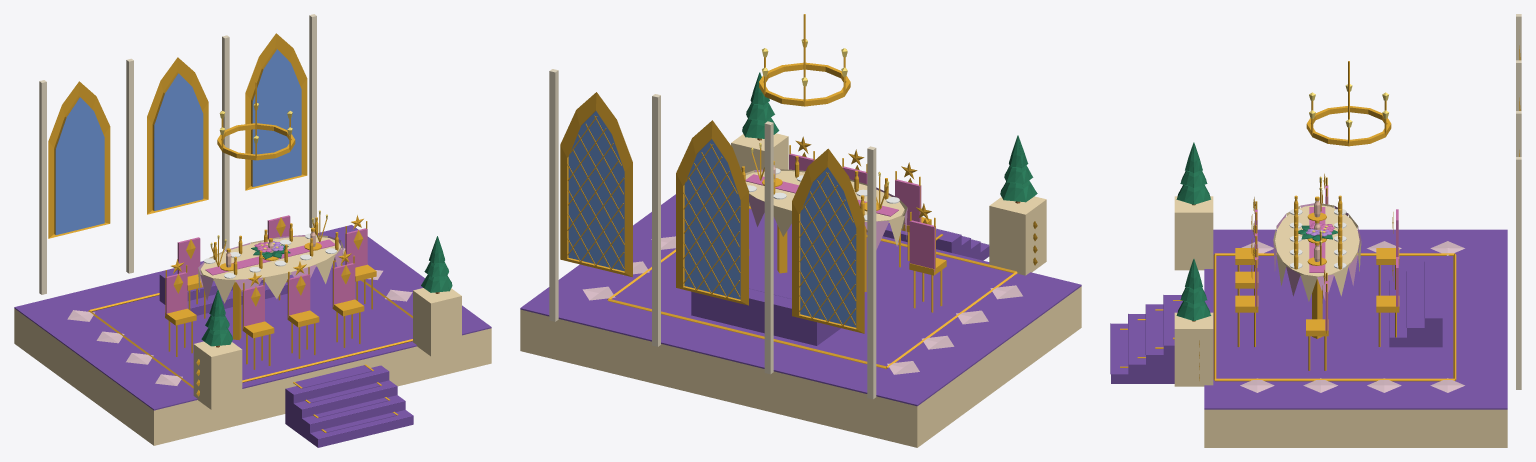
Rendered from decoration.glb.
The picture shows the model from 3 angles, left to right: view 1: azimuth 30°, elevation 25°; view 2: azimuth 150°, elevation 25°; view 3: azimuth 270°, elevation 25°; orthographic projection. The views are drawn at different scales.
Visible parts, largest first — view 1: 19_Gala_FloorStairsAndPlanters, 19_ComparisonReview_DetailCorrections, 19_Gala_TableChairsAndChandelier, 19_Gala_ClothCandlesFlowersAndGoldCarpet, 19_R2C_Gala_DaisCarpetChairCrownsAndFloor; view 2: 19_Gala_FloorStairsAndPlanters, 19_ComparisonReview_DetailCorrections, 19_Gala_TableChairsAndChandelier, 19_R2C_Gala_DaisCarpetChairCrownsAndFloor, 19_Gala_ClothCandlesFlowersAndGoldCarpet; view 3: 19_Gala_FloorStairsAndPlanters, 19_Gala_TableChairsAndChandelier, 19_R2C_Gala_DaisCarpetChairCrownsAndFloor, 19_Gala_ClothCandlesFlowersAndGoldCarpet, 19_ComparisonReview_DetailCorrections.
Boxes of the visible parts, bbox=[...] form: 19_Gala_FloorStairsAndPlanters: bbox=[14, 225, 491, 447]; 19_ComparisonReview_DetailCorrections: bbox=[39, 14, 316, 294]; 19_Gala_TableChairsAndChandelier: bbox=[165, 82, 376, 369]; 19_Gala_ClothCandlesFlowersAndGoldCarpet: bbox=[88, 210, 412, 388]; 19_R2C_Gala_DaisCarpetChairCrownsAndFloor: bbox=[67, 215, 412, 432]; 19_Gala_FloorStairsAndPlanters: bbox=[520, 72, 1081, 447]; 19_ComparisonReview_DetailCorrections: bbox=[549, 69, 876, 399]; 19_Gala_TableChairsAndChandelier: bbox=[745, 14, 946, 312]; 19_R2C_Gala_DaisCarpetChairCrownsAndFloor: bbox=[582, 136, 1037, 374]; 19_Gala_ClothCandlesFlowersAndGoldCarpet: bbox=[607, 143, 1017, 368]; 19_Gala_FloorStairsAndPlanters: bbox=[1110, 142, 1507, 447]; 19_Gala_TableChairsAndChandelier: bbox=[1235, 61, 1399, 370]; 19_R2C_Gala_DaisCarpetChairCrownsAndFloor: bbox=[1120, 173, 1464, 392]; 19_Gala_ClothCandlesFlowersAndGoldCarpet: bbox=[1213, 176, 1456, 381]; 19_ComparisonReview_DetailCorrections: bbox=[1516, 14, 1521, 389].
Size of the model in its own units: 1.2 by 0.93 by 1.17.
